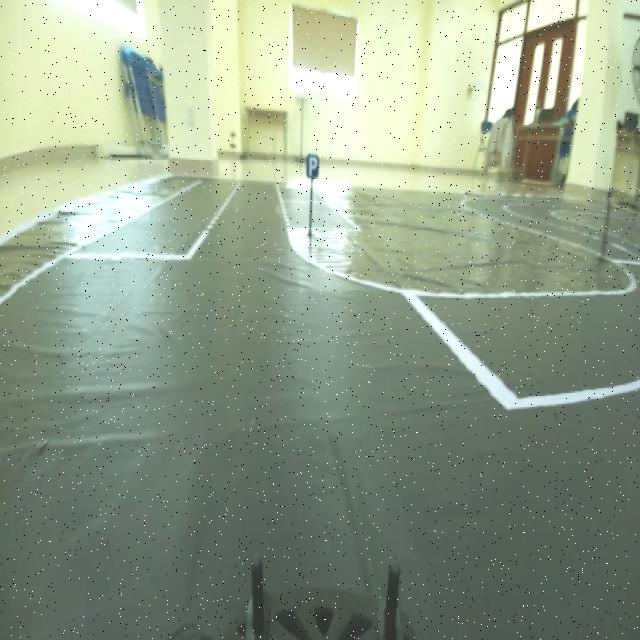parking: (302, 144, 327, 182)
